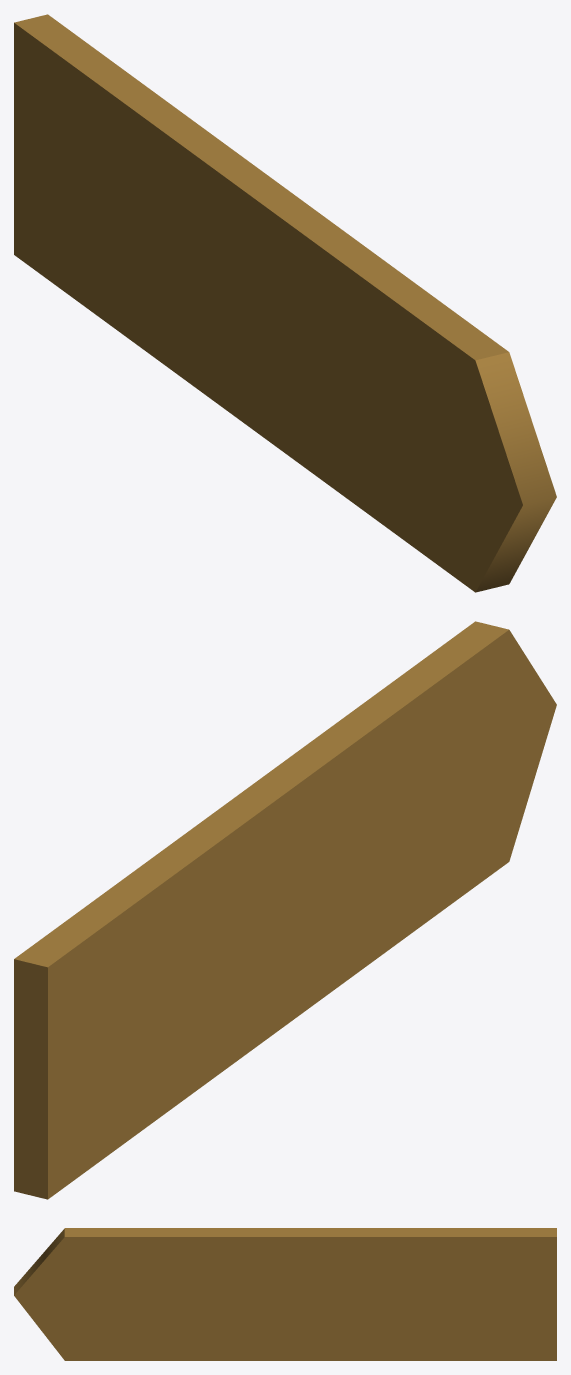
File: sign.fbx
3 renders of one model, top to bottom at view 1: azimuth 30°, elevation 25°; view 2: azimuth 150°, elevation 25°; view 3: azimuth 270°, elevation 25°, orthographic. The views are drawn at different scales.
Visible parts, largest first — view 1: pCube1; view 2: pCube1; view 3: pCube1.
Part boxes in pixels (x1,y1,x2,y2): pCube1: [14, 14, 556, 592]; pCube1: [14, 621, 556, 1199]; pCube1: [14, 1228, 556, 1360].
Bounding box in the file's own units: 0.2549 × 1.67 × 6.63.
